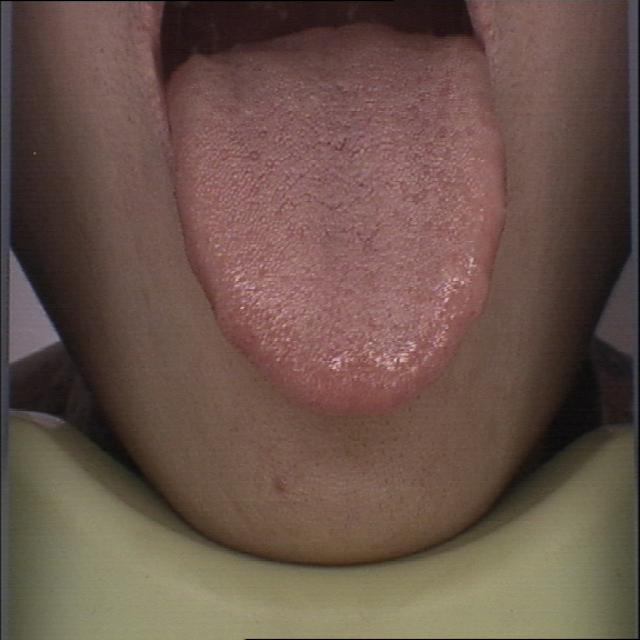tongue: (166, 24, 516, 420)
